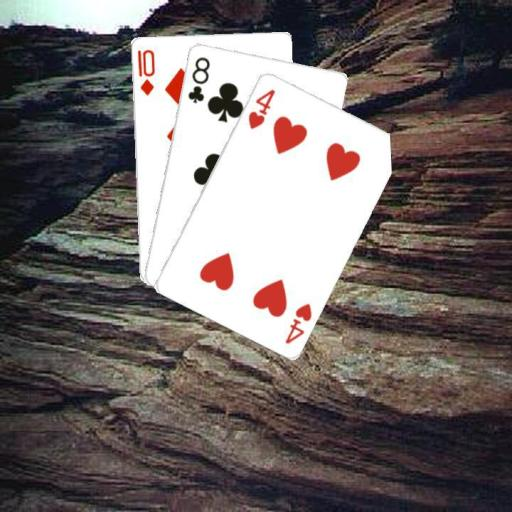10D: (134, 46, 156, 96)
4H: (282, 299, 314, 345), (245, 85, 277, 130)
8C: (184, 54, 211, 105)
